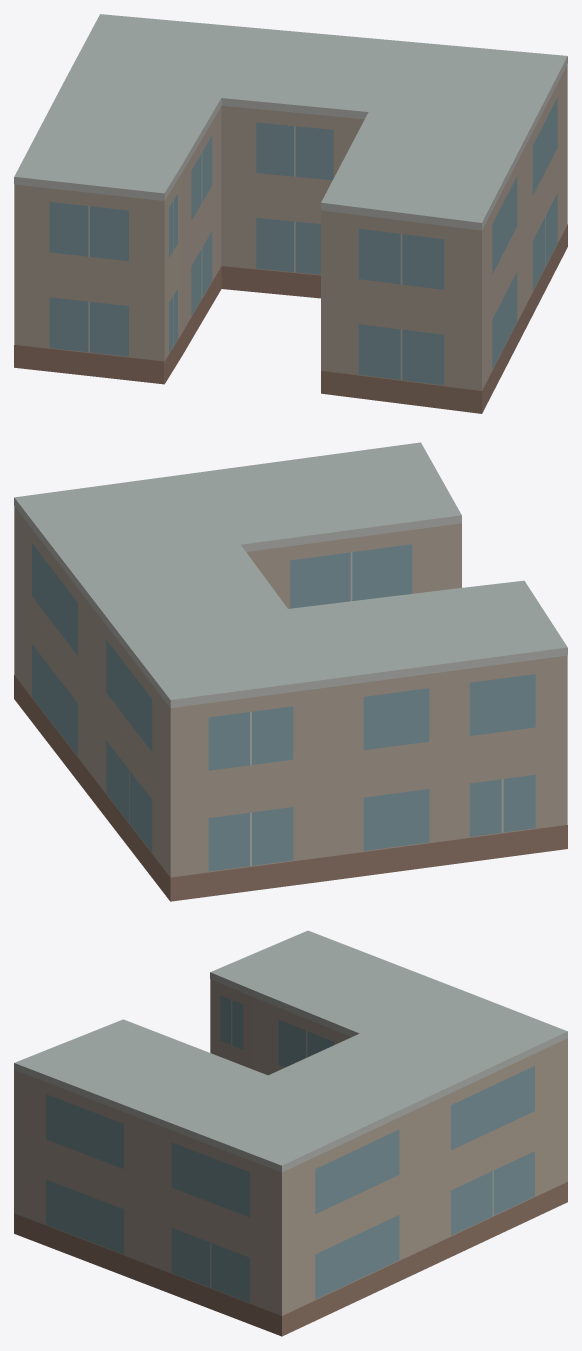
File: survey-upis-32909747.glb
3 views of the same model, one above another, from view 1: azimuth 30°, elevation 25°; view 2: azimuth 150°, elevation 25°; view 3: azimuth 270°, elevation 25° (orthographic). The views are drawn at different scales.
Visible parts, largest first — view 1: survey-upis-32909747.tmp; view 2: survey-upis-32909747.tmp; view 3: survey-upis-32909747.tmp.
Part boxes in pixels (left/top/right/bottom): survey-upis-32909747.tmp: left=14, top=14, right=567, bottom=413; survey-upis-32909747.tmp: left=14, top=442, right=567, bottom=901; survey-upis-32909747.tmp: left=14, top=930, right=567, bottom=1336.
Bounding box in the file's own units: 18.04 × 6.1 × 17.94.
